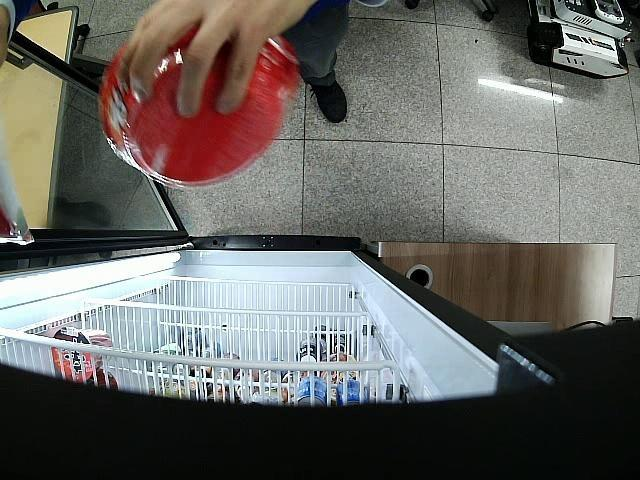10_wangTtukkeong: (100, 20, 300, 190)
